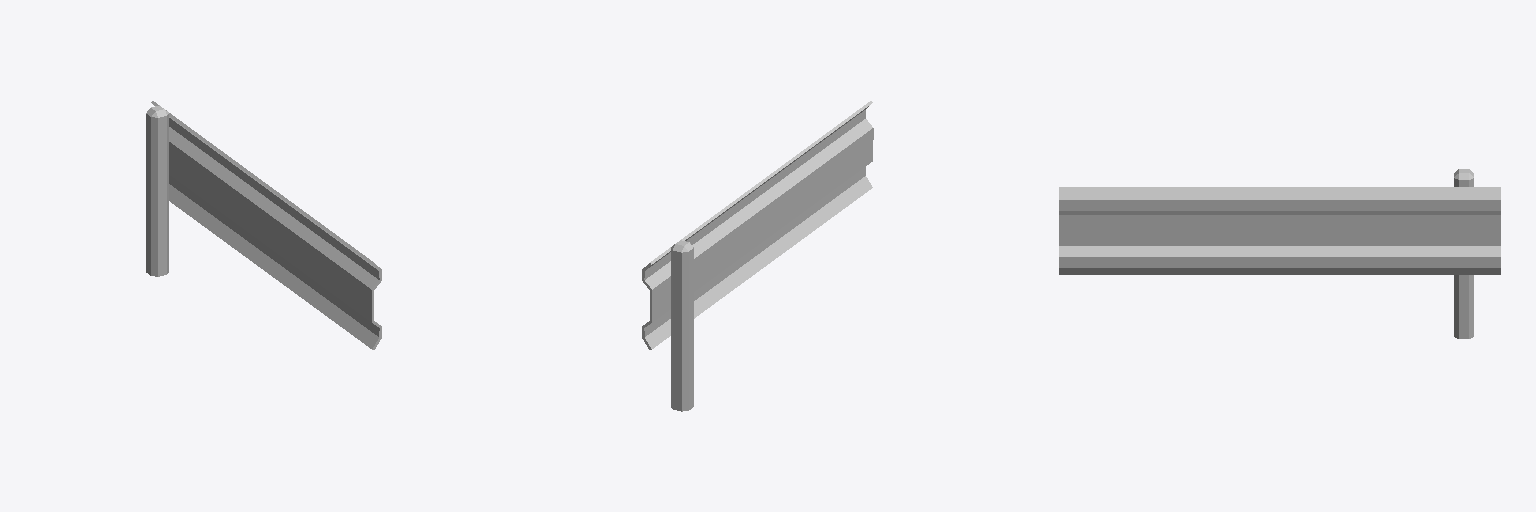
The model's file is planke01_v2.obj.
The picture shows the model from 3 angles: view 1: azimuth 30°, elevation 25°; view 2: azimuth 150°, elevation 25°; view 3: azimuth 270°, elevation 25°; orthographic projection.
Visible parts, largest first — view 1: Cube_Cube.001; view 2: Cube_Cube.001; view 3: Cube_Cube.001.
Boxes of the visible parts, box(x1,y1,x2,y2) form: Cube_Cube.001: box(146, 101, 381, 349); Cube_Cube.001: box(642, 101, 873, 411); Cube_Cube.001: box(1059, 169, 1500, 338).
Size of the model in its own units: 0.6861 by 3.51 by 8.59.